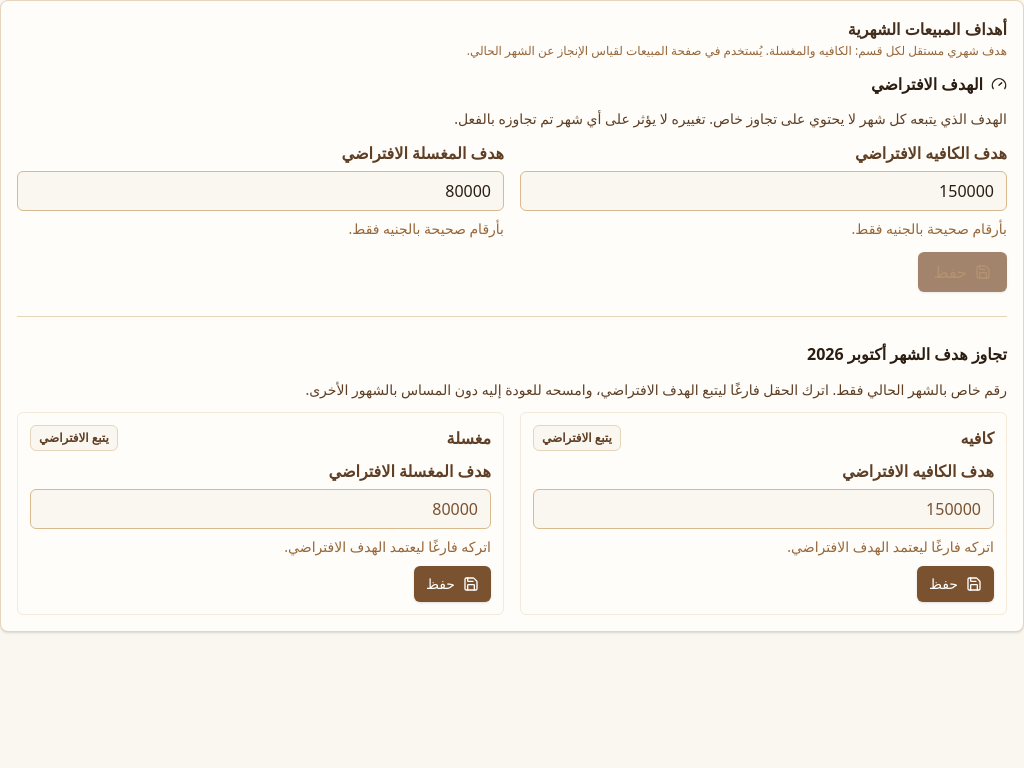
Test: RevenueTargetsCard › reports a refused save instead of leaving the draft looking saved
The width and height of the screenshot is (1024, 768).
Replace the text in the 1st field labelled "هدف الكافيه الافتراضي" with "200000" at (764, 191), box x1=520 y1=171 x2=1007 y2=211
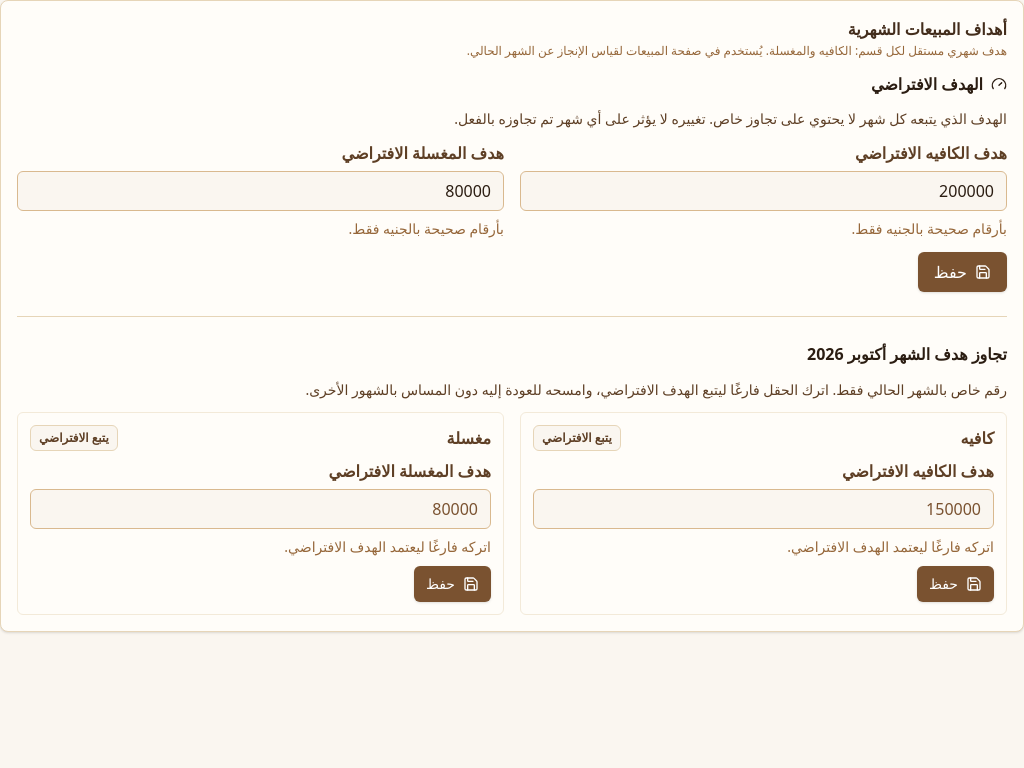
Click the 1st button "حفظ".
click(962, 272)  # box x1=918 y1=252 x2=1007 y2=292
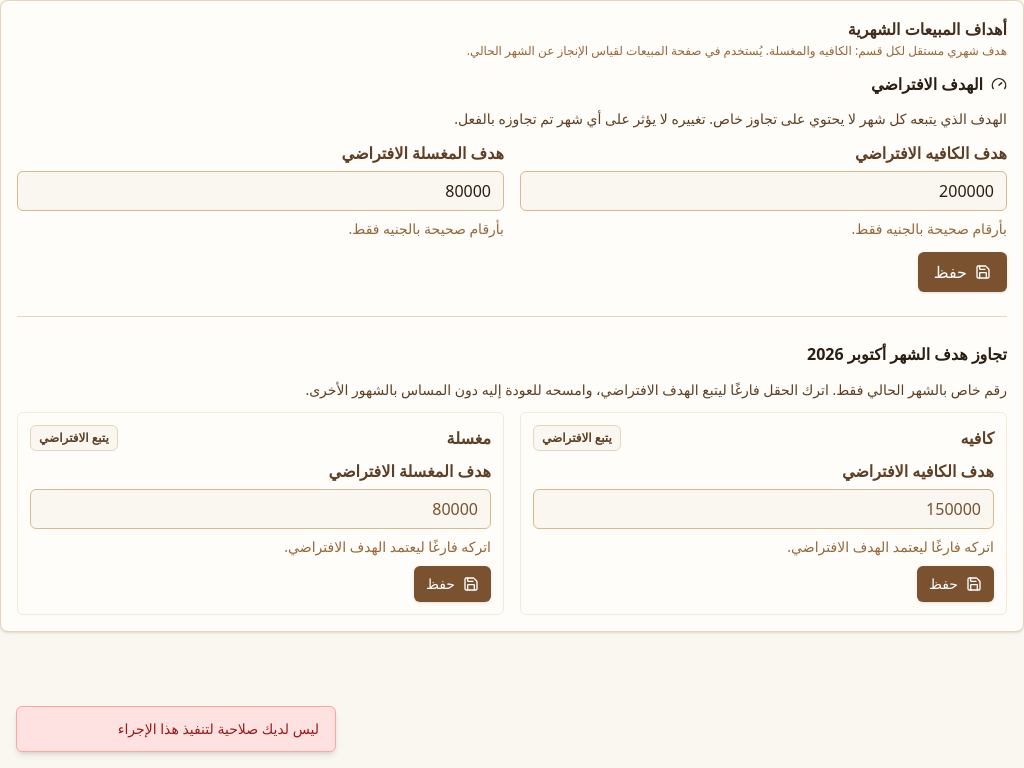
Check: the text "ليس لديك صلاحية لتنفيذ هذا الإجراء" is shown, box x1=16 y1=706 x2=336 y2=752
